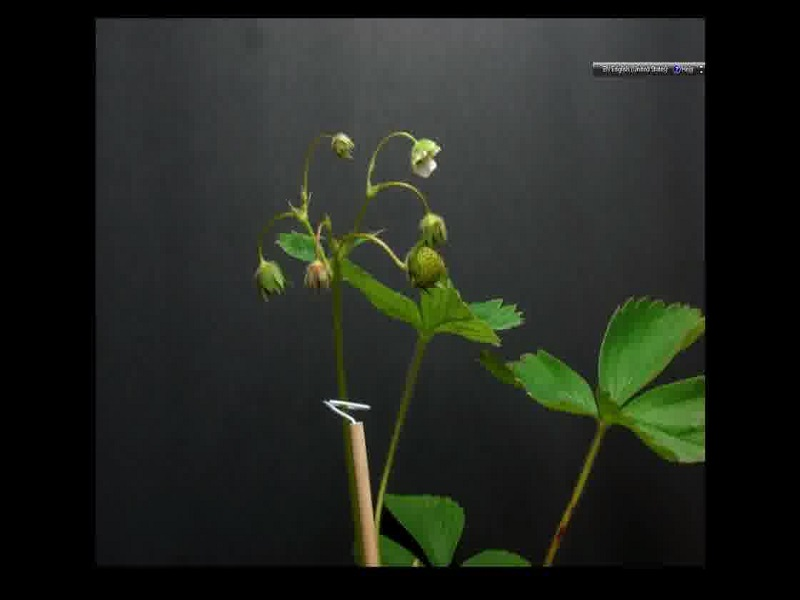storeberry-fruit-4: (329, 130, 357, 161)
storeberry-fruit-5: (407, 137, 444, 179)
storeberry-fruit-6: (251, 257, 289, 300), (302, 258, 336, 293), (420, 213, 449, 242)
storeberry-fruit-8: (399, 244, 450, 292)
storeberry-leaf-5: (596, 286, 704, 405), (477, 347, 599, 421), (418, 281, 525, 345), (375, 488, 466, 563)
